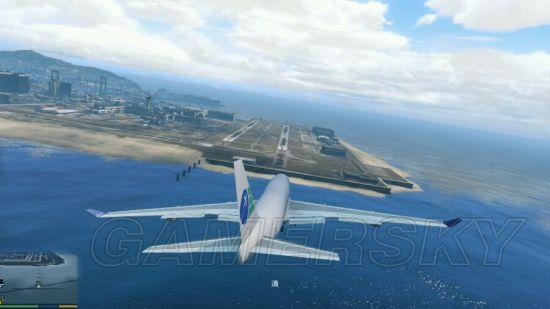airplane: (84, 160, 463, 272)
